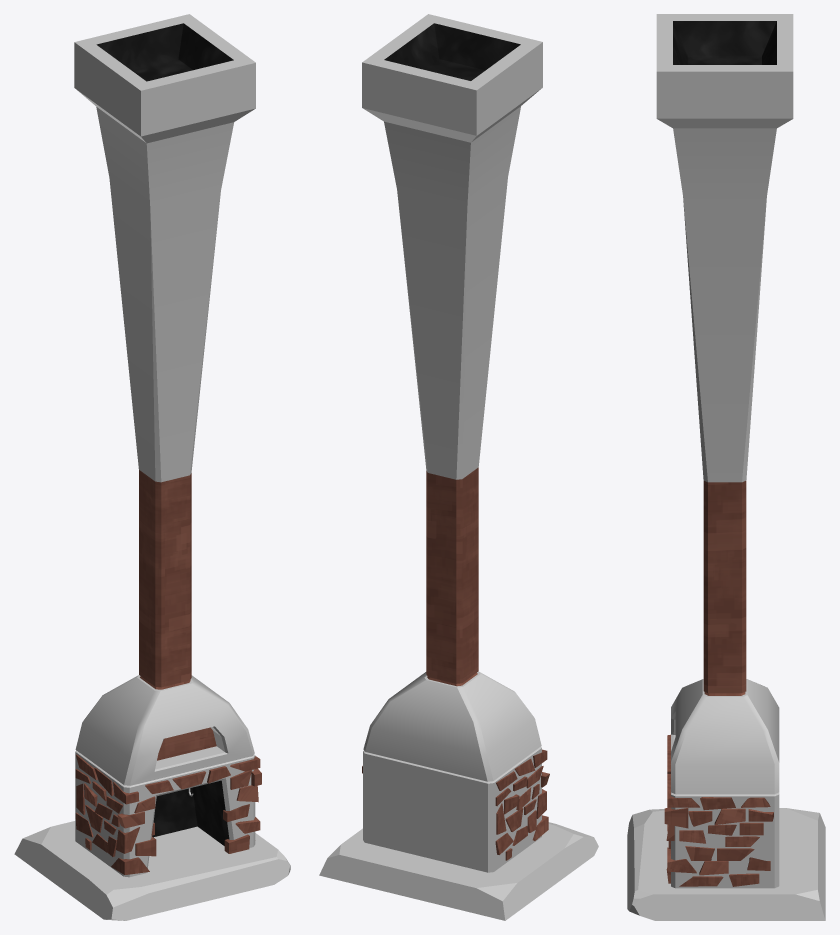
Rendered from Fireplace.fbx.
3 renders of one model, left to right at view 1: azimuth 30°, elevation 25°; view 2: azimuth 150°, elevation 25°; view 3: azimuth 270°, elevation 25°, orthographic. The views are drawn at different scales.
Visible parts, largest first — view 1: Fireplace; view 2: Fireplace; view 3: Fireplace.
Part boxes in pixels (x1,y1,x2,y2): Fireplace: [14, 14, 290, 920]; Fireplace: [319, 14, 598, 920]; Fireplace: [627, 14, 825, 920].
Size of the model in its own units: 179 by 742 by 160.
